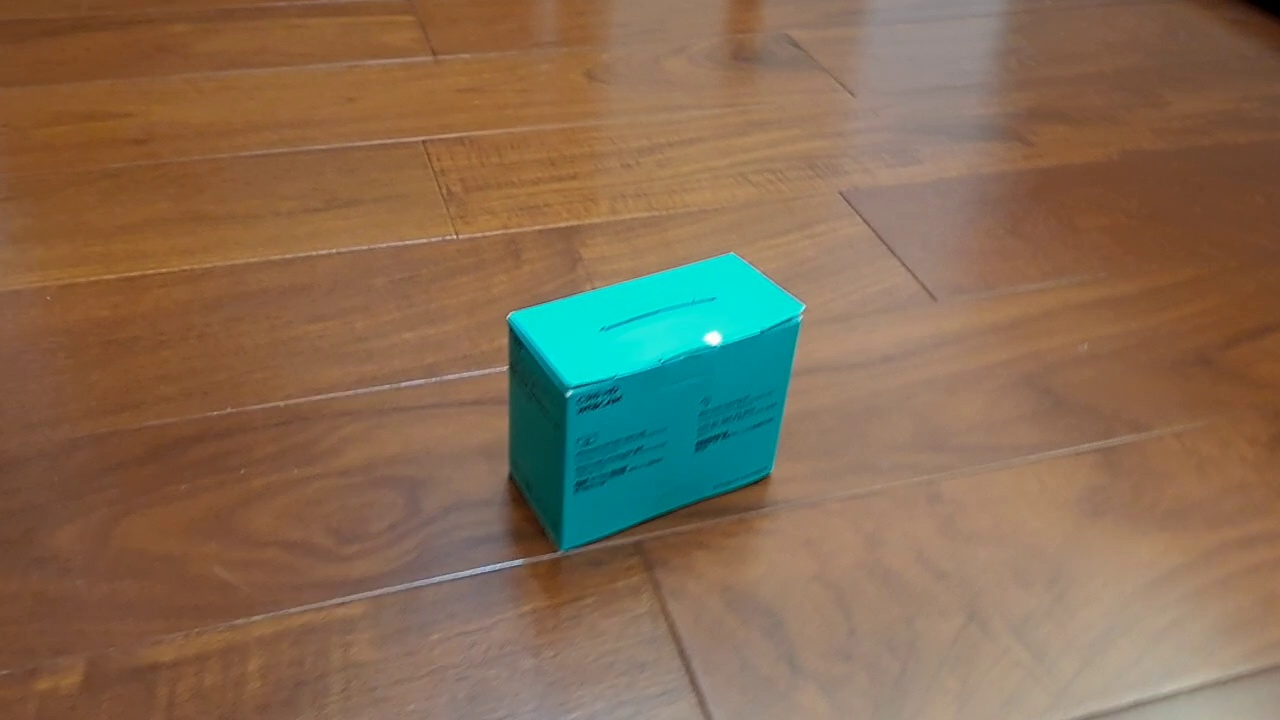webcam: (504, 249, 807, 554)
